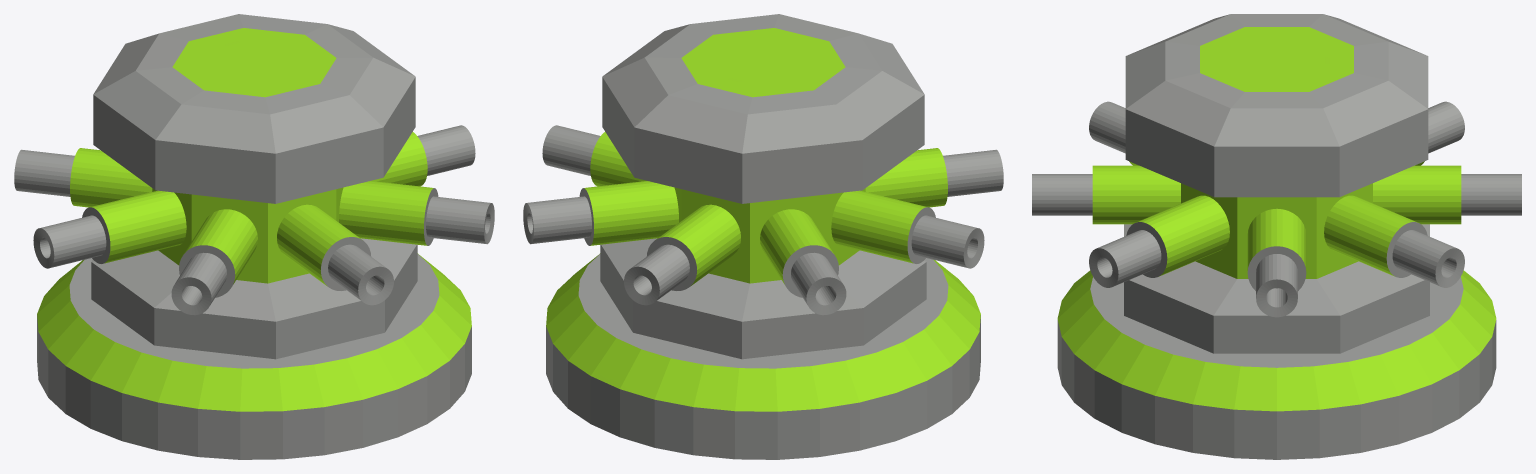
The model's file is spikey.fbx.
3 views of the same model, side by side, from view 1: azimuth 30°, elevation 25°; view 2: azimuth 150°, elevation 25°; view 3: azimuth 270°, elevation 25° (orthographic).
Parts seen in each view (by area): view 1: Circle; view 2: Circle; view 3: Circle.
Part boxes in pixels (x1=…): Circle: x1=14, y1=14, x2=494, y2=459; Circle: x1=523, y1=14, x2=1003, y2=459; Circle: x1=1032, y1=14, x2=1521, y2=459.
Size of the model in its own units: 223 by 155 by 223.
Materials: 1 (1 with a texture image).
